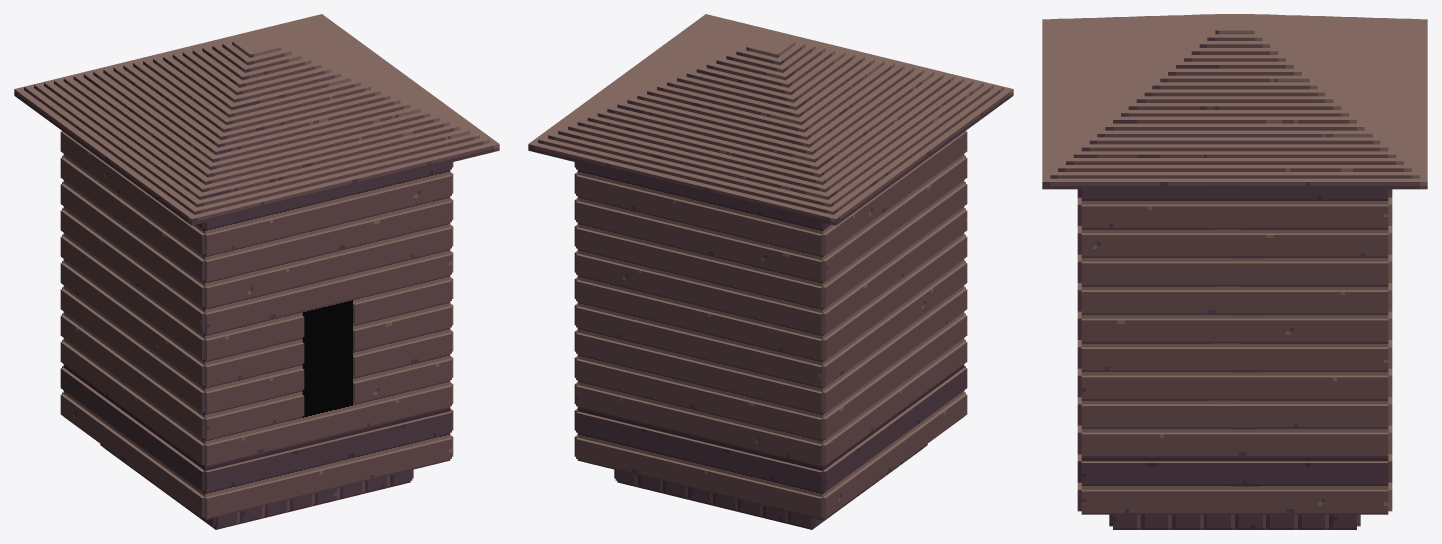
Rendered from water_towerao.fezao.glb.
The picture shows the model from 3 angles, left to right: view 1: azimuth 30°, elevation 25°; view 2: azimuth 150°, elevation 25°; view 3: azimuth 270°, elevation 25°; orthographic projection. The views are drawn at different scales.
Parts seen in each view (by area): view 1: WATER_TOWERAO; view 2: WATER_TOWERAO; view 3: WATER_TOWERAO.
Part boxes in pixels (x1,y1,x2,y2): WATER_TOWERAO: (14, 14, 499, 529); WATER_TOWERAO: (528, 14, 1013, 529); WATER_TOWERAO: (1042, 14, 1427, 529).
Bounding box in the file's own units: 6.12 × 8 × 6.12.
Materials: 1 (1 with a texture image).
